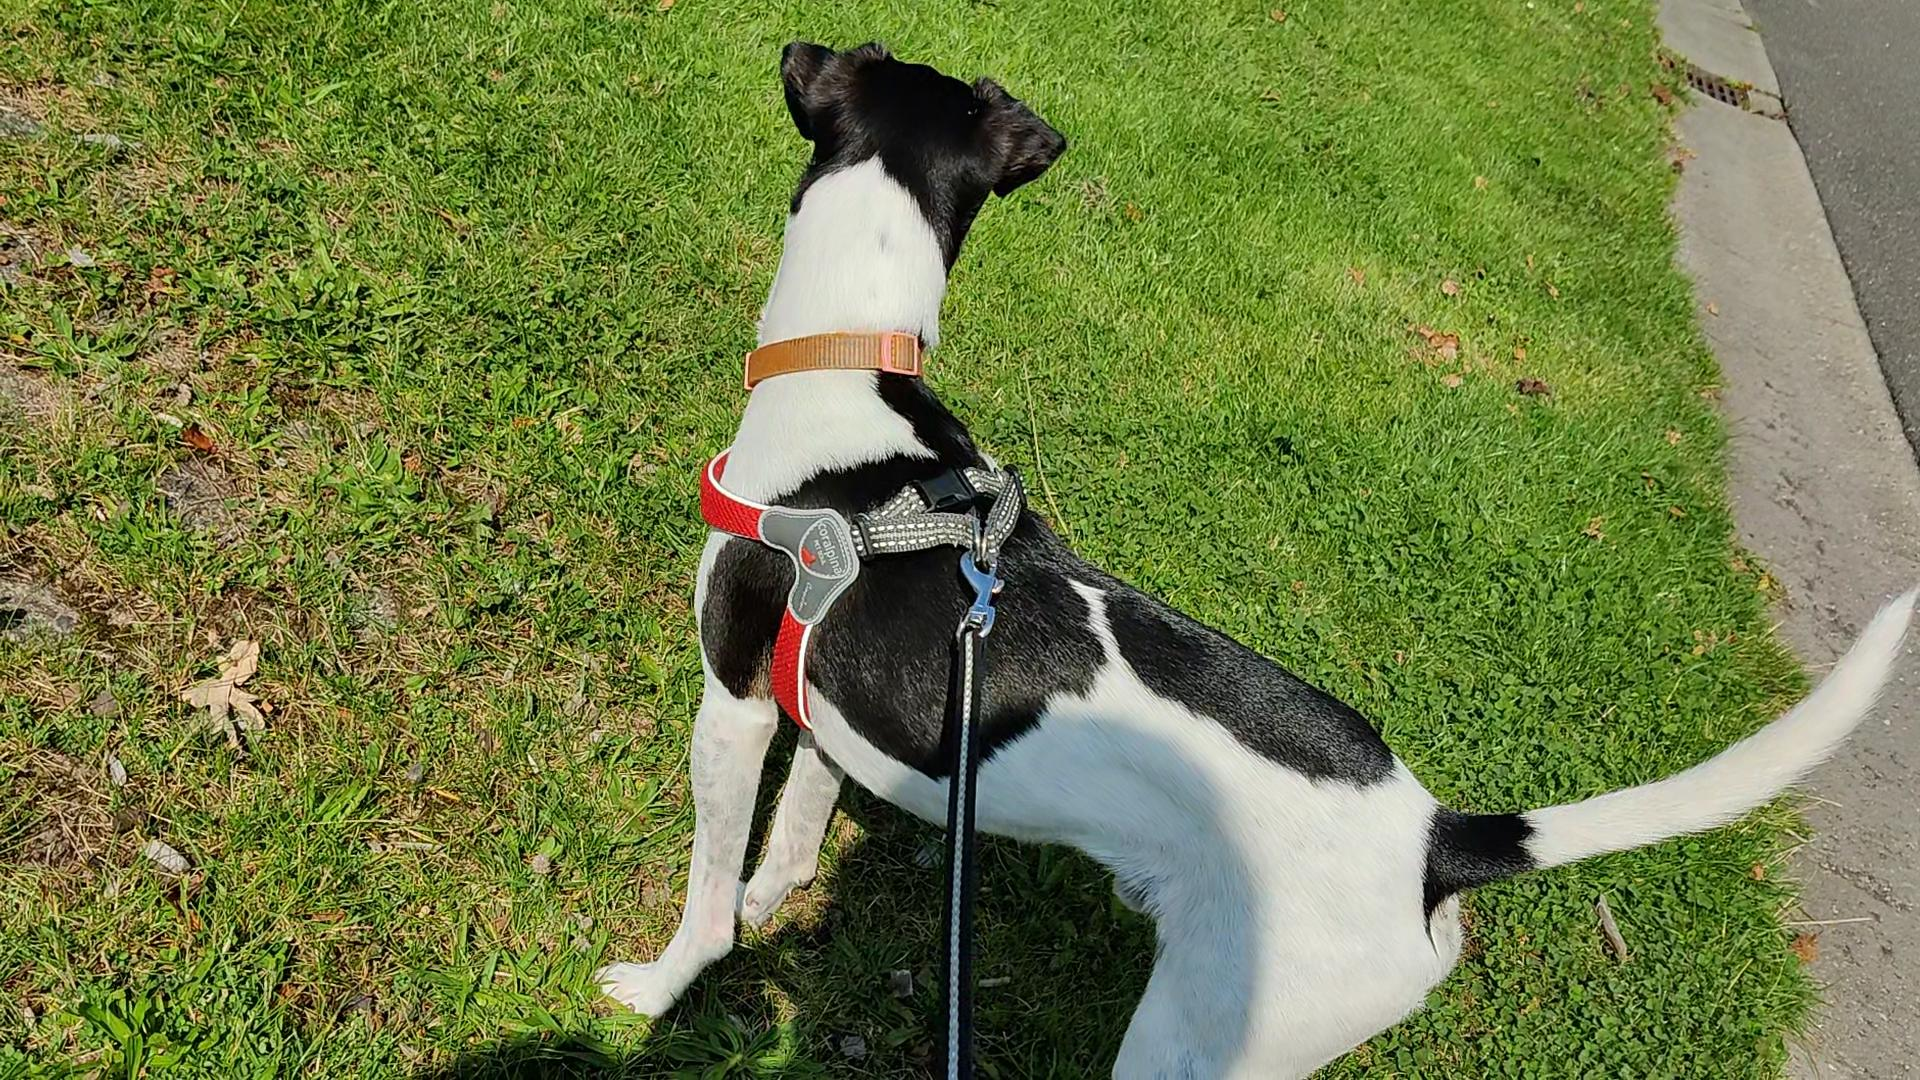Dog: (578, 36, 1919, 1079)
